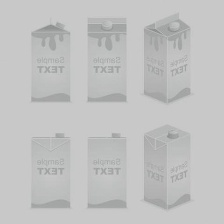carton: (136, 120, 199, 213), (140, 7, 196, 105), (25, 14, 74, 107), (83, 14, 131, 105), (25, 130, 76, 214), (81, 128, 131, 211)
